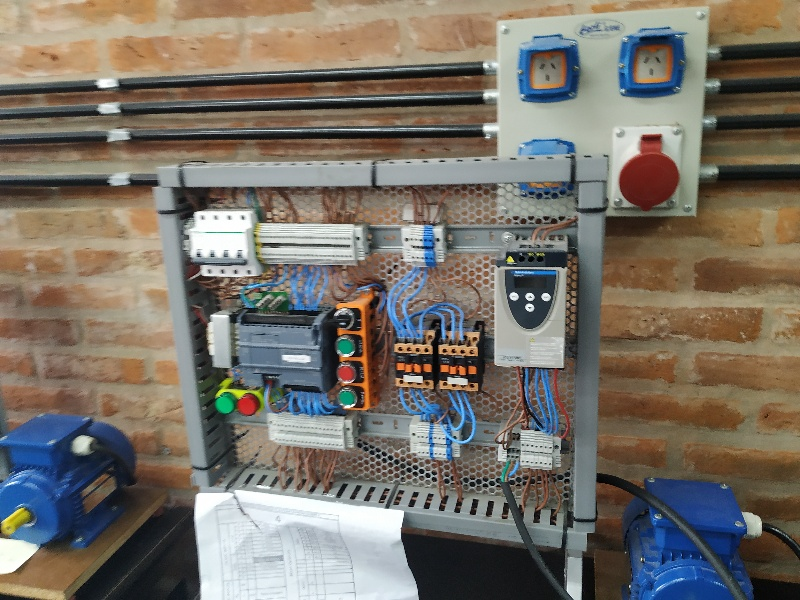Tablero 4: (169, 180, 580, 520)
